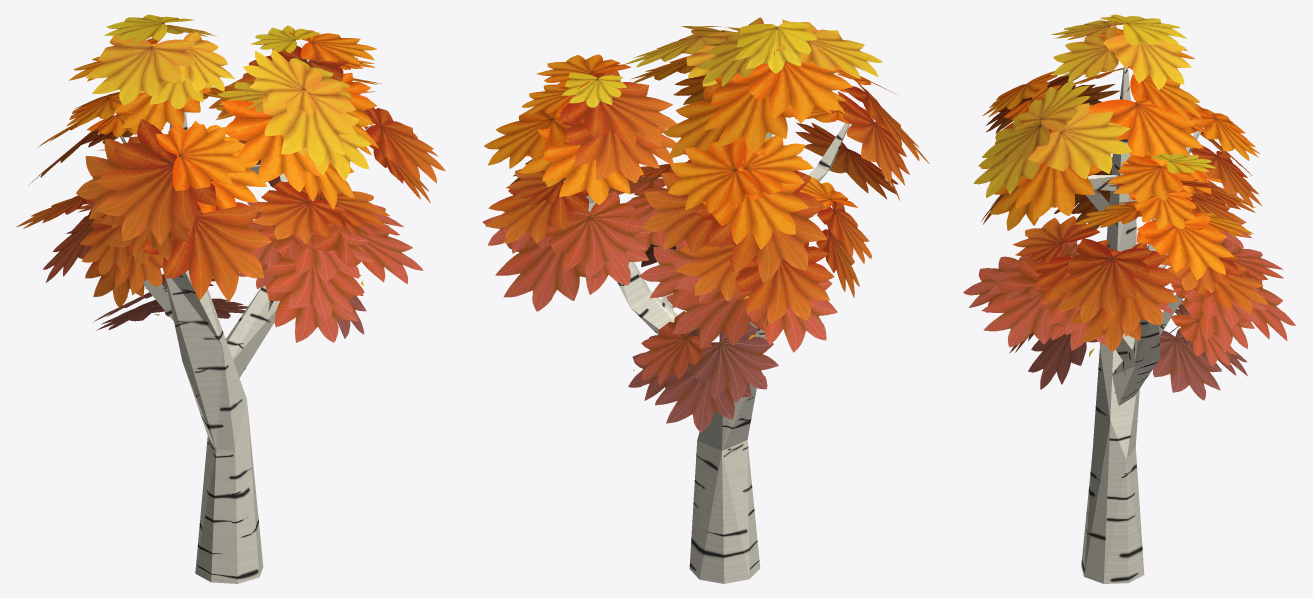
The model's file is VEG0210007.fbx.
3 renders of one model, left to right at view 1: azimuth 30°, elevation 25°; view 2: azimuth 150°, elevation 25°; view 3: azimuth 270°, elevation 25°, orthographic. The views are drawn at different scales.
Visible parts, largest first — view 1: smVEG0210007; view 2: smVEG0210007; view 3: smVEG0210007.
Boxes of the visible parts, left/top/right/bottom form: smVEG0210007: left=16, top=14, right=445, bottom=583; smVEG0210007: left=482, top=17, right=929, bottom=583; smVEG0210007: left=963, top=14, right=1295, bottom=583.
Size of the model in its own units: 369 by 510 by 299.
Materials: 2 (2 with a texture image).
